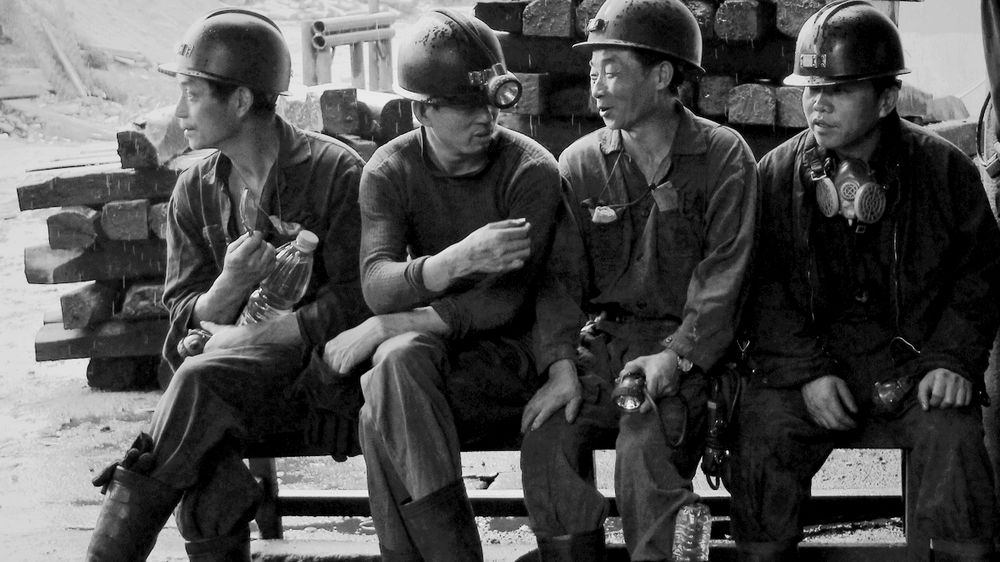helmet: (153, 8, 315, 162), (384, 1, 524, 163), (776, 1, 918, 157), (563, 3, 718, 135)
